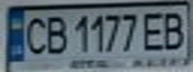1: (69, 11, 90, 53), (87, 11, 106, 52)
7: (118, 10, 142, 52), (103, 11, 124, 52)
B: (157, 8, 190, 51), (42, 12, 69, 56)
C: (21, 14, 51, 56)
E: (139, 8, 172, 52)
